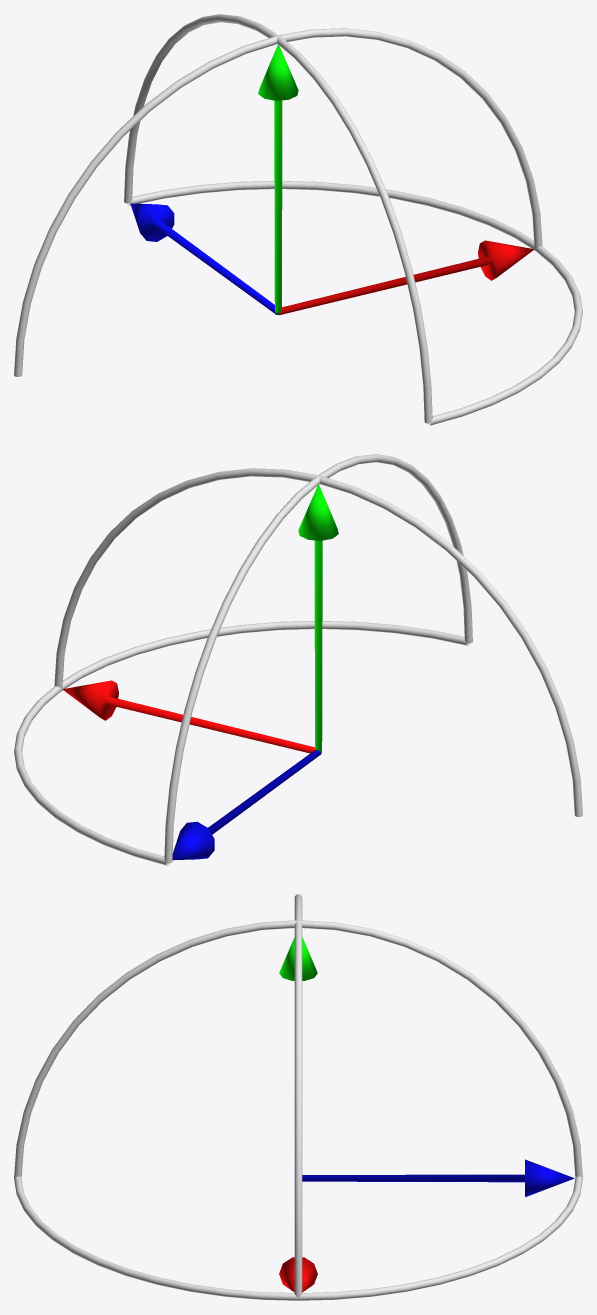
The model's file is Manipulator1FBX.fbx.
3 renders of one model, top to bottom at view 1: azimuth 30°, elevation 25°; view 2: azimuth 150°, elevation 25°; view 3: azimuth 270°, elevation 25°, orthographic. The views are drawn at different scales.
Visible parts, largest first — view 1: r_z, r_x, r_y, m_y, m_x, m_z; view 2: r_z, r_x, r_y, m_y, m_x, m_z; view 3: r_x, r_y, r_z, m_z, m_y, m_x.
Part boxes in pixels (x1,y1,x2,y2): r_z: (14,28,542,376); r_x: (124,14,432,423); r_y: (127,181,582,425); m_y: (258,45,298,313); m_x: (278,240,534,315); m_z: (130,203,278,314); r_z: (54,468,582,816); r_x: (164,454,472,863); r_y: (14,621,469,865); m_y: (298,485,338,752); m_x: (62,680,315,753); m_z: (172,750,321,860); r_x: (14,920,582,1177); r_y: (14,1176,582,1300); r_z: (294,894,302,1298); m_z: (302,1159,574,1197); m_y: (279,937,317,980); m_x: (279,1257,317,1292).
Bounding box in the file's own units: 2.03 × 2.03 × 1.08.
